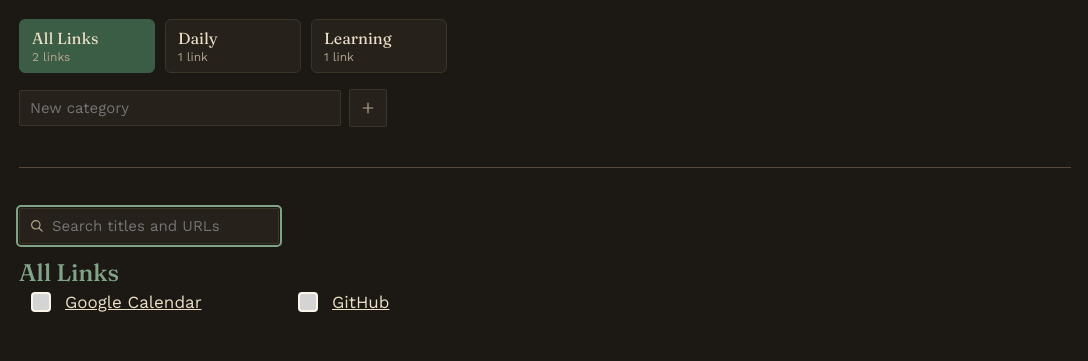
Scenario: UserFavorites: categories › deletes a category after confirmation and selects the next one
Click the button "Daily 1 link". click: click(233, 46)
box: [165,19,301,73]
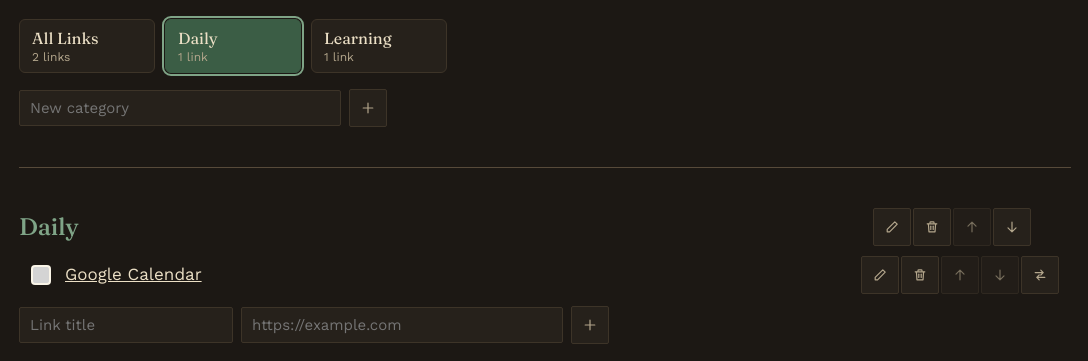
Click the button named "Delete category". click: click(932, 227)
box: [913,208,951,246]
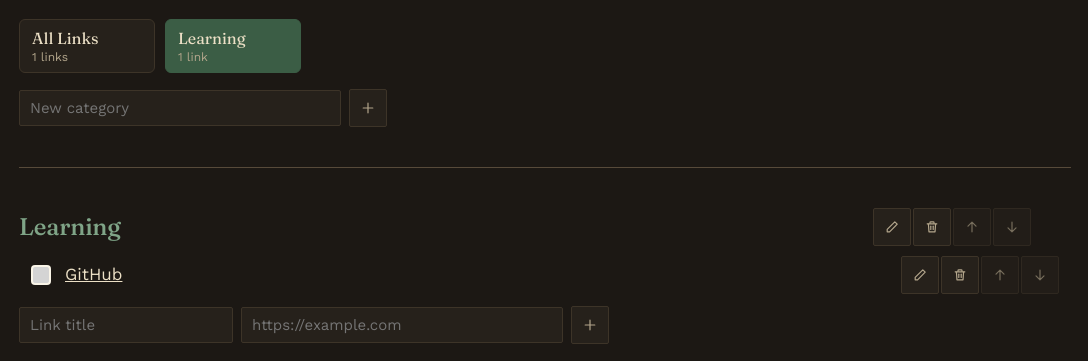
Now the button "Daily" is gone
Now the heading "Learning" is shown, box [19,214,121,240]
